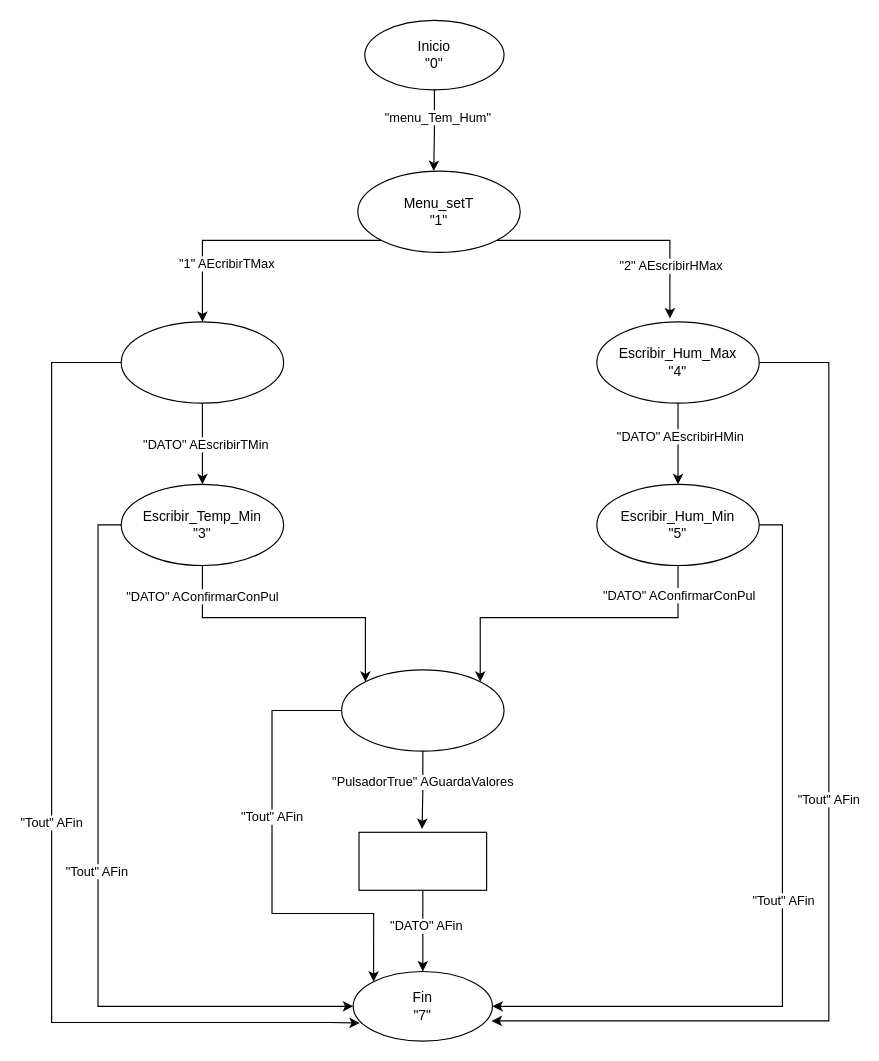
Image size: 879x1061. Some labels were removed from this diagram. The centre of each missing label's shape, as x and y in pixels:
Confirmar_Con_Pulsador "6": the point at 422,710
Escribir_Temp_Max "2": the point at 202,362
Valores_Guardados "7": the point at 422,860
